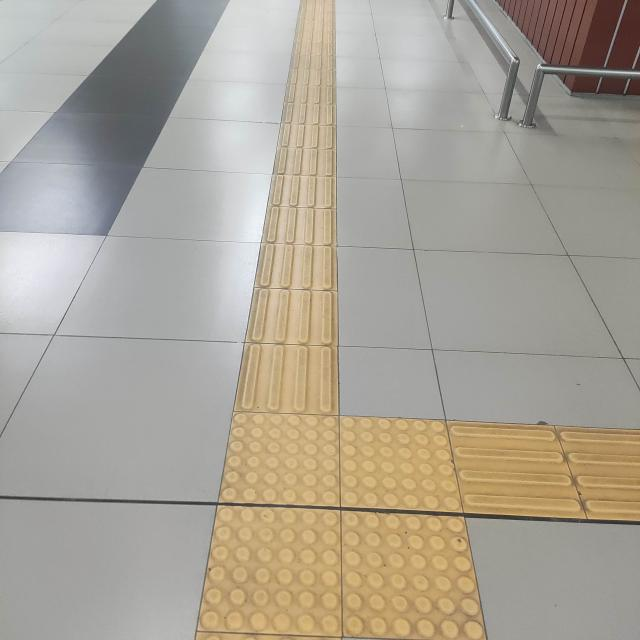lurus: (241, 4, 344, 408)
